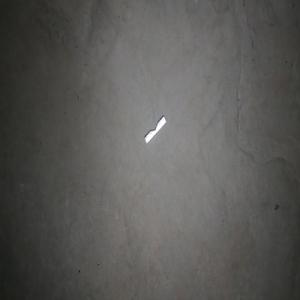ClampPart: (144, 114, 166, 145)
